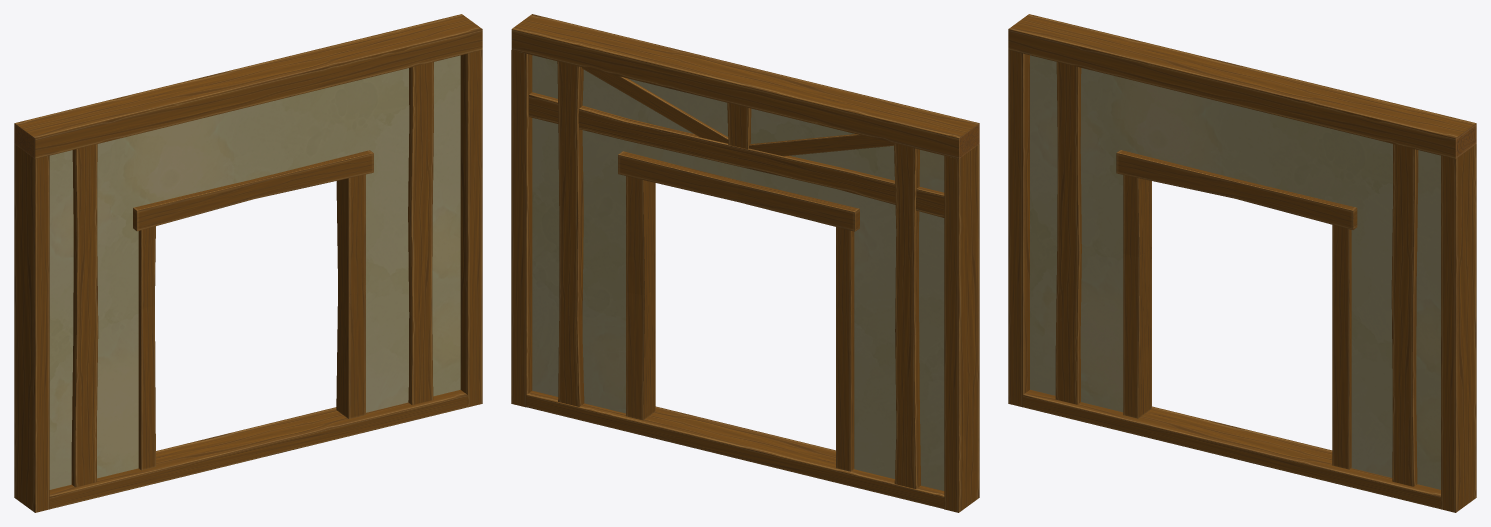
Rendered from SM_House_Wall_5x4_Door_C_03.fbx.
The picture shows the model from 3 angles, left to right: view 1: azimuth 30°, elevation 25°; view 2: azimuth 150°, elevation 25°; view 3: azimuth 330°, elevation 25°; orthographic projection.
Parts seen in each view (by area): view 1: SM_House_Wall_5x4_Door_C_03; view 2: SM_House_Wall_5x4_Door_C_03; view 3: SM_House_Wall_5x4_Door_C_03.
Boxes of the visible parts, x1,y1,x2,y2 form: SM_House_Wall_5x4_Door_C_03: (14, 14, 482, 512); SM_House_Wall_5x4_Door_C_03: (511, 14, 979, 512); SM_House_Wall_5x4_Door_C_03: (1008, 14, 1476, 512).
Bounding box in the file's own units: 5 × 4 × 0.4024.
